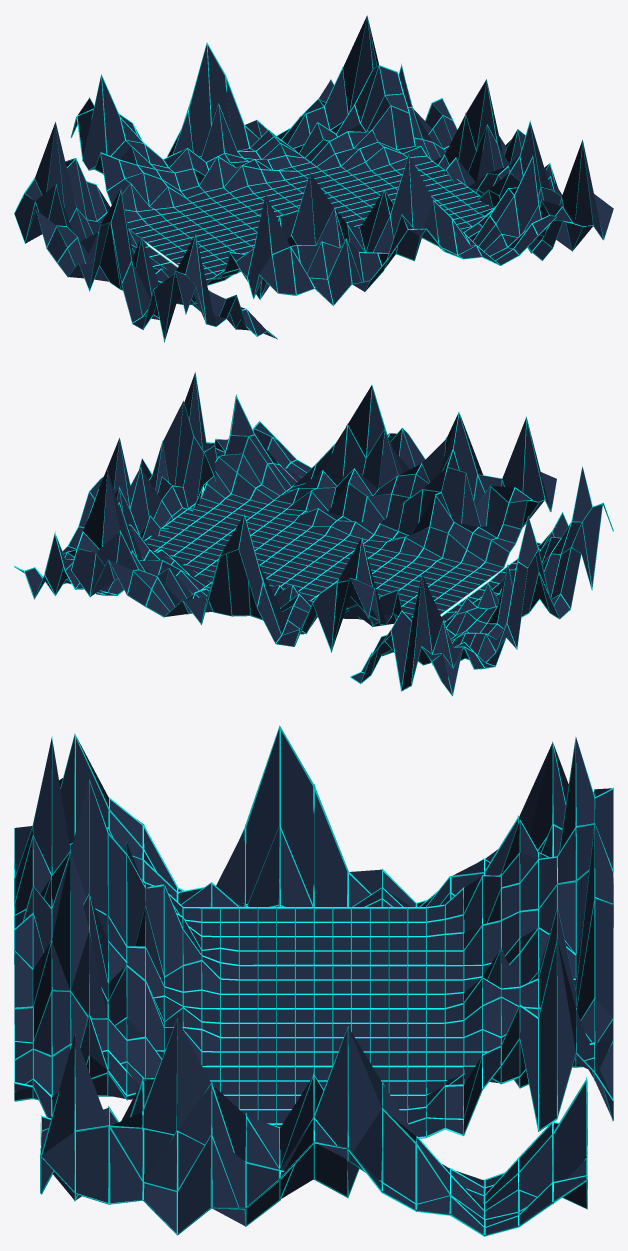
Rendered from fonfo.fbx.
The picture shows the model from 3 angles, top to bottom: view 1: azimuth 30°, elevation 25°; view 2: azimuth 150°, elevation 25°; view 3: azimuth 270°, elevation 25°; orthographic projection. The views are drawn at different scales.
Visible parts, largest first — view 1: Plane1, Plane; view 2: Plane1, Plane; view 3: Plane1, Plane.
Boxes of the visible parts, <box> form: Plane1: <box>70,15,556,305</box>; Plane: <box>14,63,613,342</box>; Plane1: <box>71,385,556,652</box>; Plane: <box>14,371,613,696</box>; Plane1: <box>14,736,613,1138</box>; Plane: <box>40,725,587,1236</box>.
Bounding box in the file's own units: 2628 × 861 × 2003.
